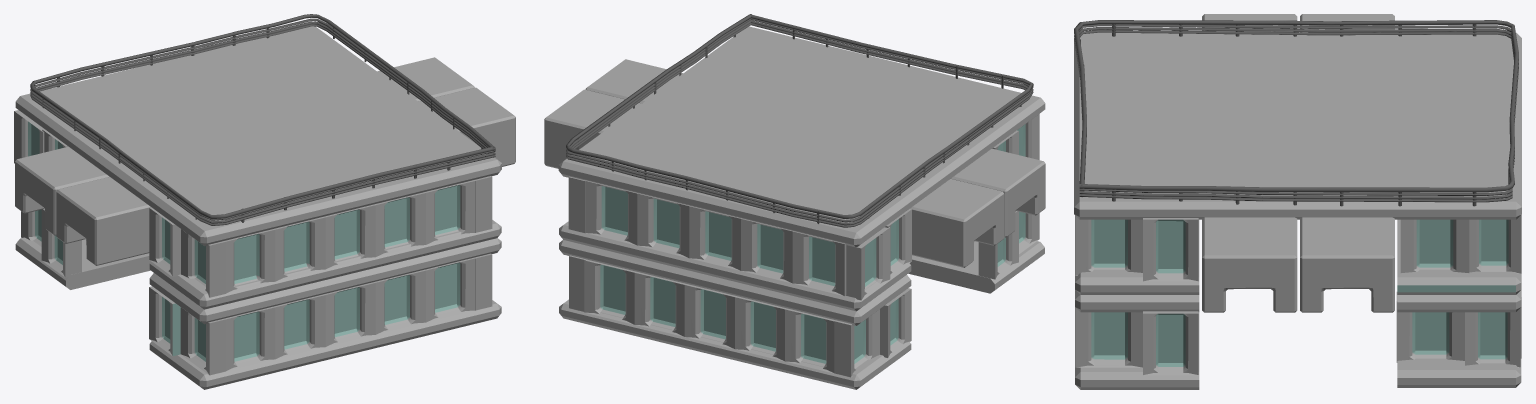
File: Apartment hole with train rails.fbx
3 renders of one model, left to right at view 1: azimuth 30°, elevation 25°; view 2: azimuth 150°, elevation 25°; view 3: azimuth 270°, elevation 25°, orthographic. The views are drawn at different scales.
Visible parts, largest first — view 1: polySurface4294; view 2: polySurface4294; view 3: polySurface4294.
Part boxes in pixels (bbox=[...]): polySurface4294: bbox=[14, 14, 515, 389]; polySurface4294: bbox=[544, 14, 1045, 389]; polySurface4294: bbox=[1074, 14, 1521, 389].
Bounding box in the file's own units: 415 × 162 × 323.
